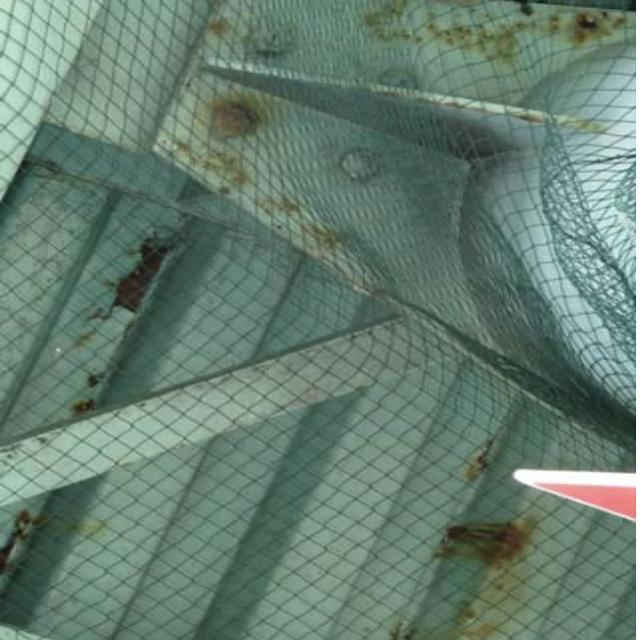corrosion: (382, 6, 614, 84), (433, 464, 530, 623), (203, 73, 291, 216), (100, 208, 171, 338)
